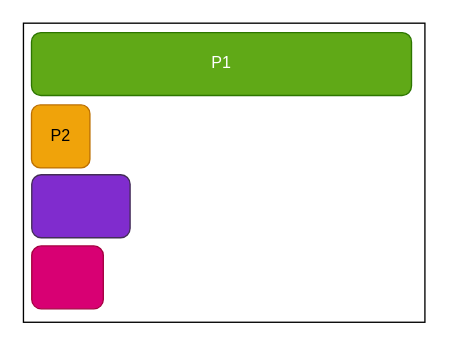
Image size: 449x347. Some labels were removed from this diagram. The shapes that lost their labels are listed below. From the top down, each one's centre as x and y in pixels, then its label:
(80,205): P3
(66,277): P4
